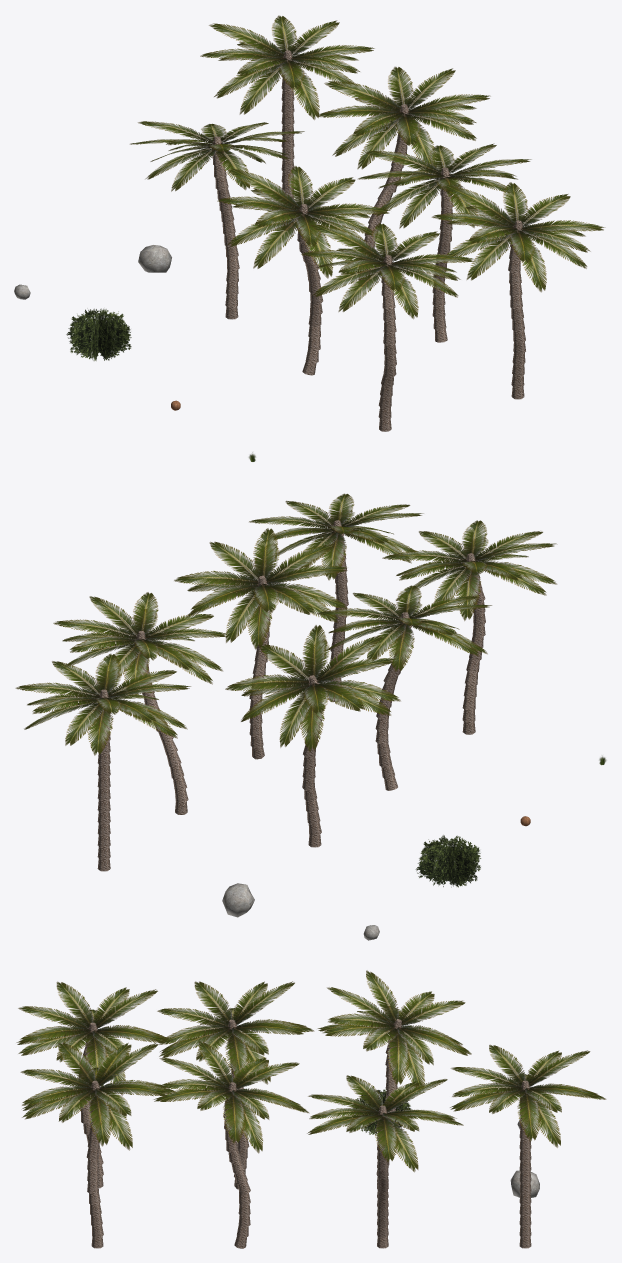
Rendered from palm-trees.glb.
The picture shows the model from 3 angles, top to bottom: view 1: azimuth 30°, elevation 25°; view 2: azimuth 150°, elevation 25°; view 3: azimuth 270°, elevation 25°; orthographic projection. The views are drawn at different scales.
Parts seen in each view (by area): view 1: palm_tree.003, palm_tree, palm_tree.005, palm_tree.002, leaves, palm_tree.001, palm_tree.004, bush, trunk, large_stone; view 2: palm_tree.004, palm_tree.001, palm_tree.005, palm_tree.002, leaves, palm_tree, palm_tree.003, bush, trunk, large_stone; view 3: palm_tree.003, palm_tree.001, palm_tree.004, palm_tree, palm_tree.002, palm_tree.005, leaves, trunk, bush, large_stone.
Part boxes in pixels (left/top/right/bottom): palm_tree.003: left=432, top=182, right=604, bottom=399; palm_tree: left=217, top=166, right=390, bottom=375; palm_tree.005: left=317, top=66, right=490, bottom=286; palm_tree.002: left=301, top=223, right=474, bottom=431; leaves: left=200, top=15, right=374, bottom=119; palm_tree.001: left=358, top=143, right=531, bottom=342; palm_tree.004: left=130, top=121, right=304, bottom=319; bush: left=66, top=308, right=131, bottom=360; trunk: left=281, top=50, right=294, bottom=230; large_stone: left=138, top=245, right=171, bottom=272; palm_tree.004: left=225, top=625, right=400, bottom=847; palm_tree.001: left=174, top=528, right=347, bottom=759; palm_tree.005: left=53, top=592, right=228, bottom=814; palm_tree.002: left=382, top=520, right=556, bottom=734; leaves: left=15, top=653, right=190, bottom=755; palm_tree: left=316, top=585, right=491, bottom=790; palm_tree.003: left=249, top=493, right=423, bottom=701; bush: left=415, top=835, right=481, bottom=887; trunk: left=97, top=689, right=110, bottom=871; large_stone: left=222, top=883, right=254, bottom=917; palm_tree.003: left=20, top=1042, right=176, bottom=1248; palm_tree.001: left=153, top=1041, right=309, bottom=1248; palm_tree.004: left=318, top=970, right=471, bottom=1185; palm_tree: left=157, top=981, right=314, bottom=1189; palm_tree.002: left=16, top=981, right=167, bottom=1188; palm_tree.005: left=307, top=1075, right=463, bottom=1248; leaves: left=450, top=1044, right=606, bottom=1147; trunk: left=519, top=1080, right=531, bottom=1248; bush: left=352, top=1089, right=411, bottom=1135; large_stone: left=510, top=1170, right=539, bottom=1197.
Bounding box in the file's own units: 31.03 × 15.25 × 41.64.
Materials: 7 (7 with a texture image).
